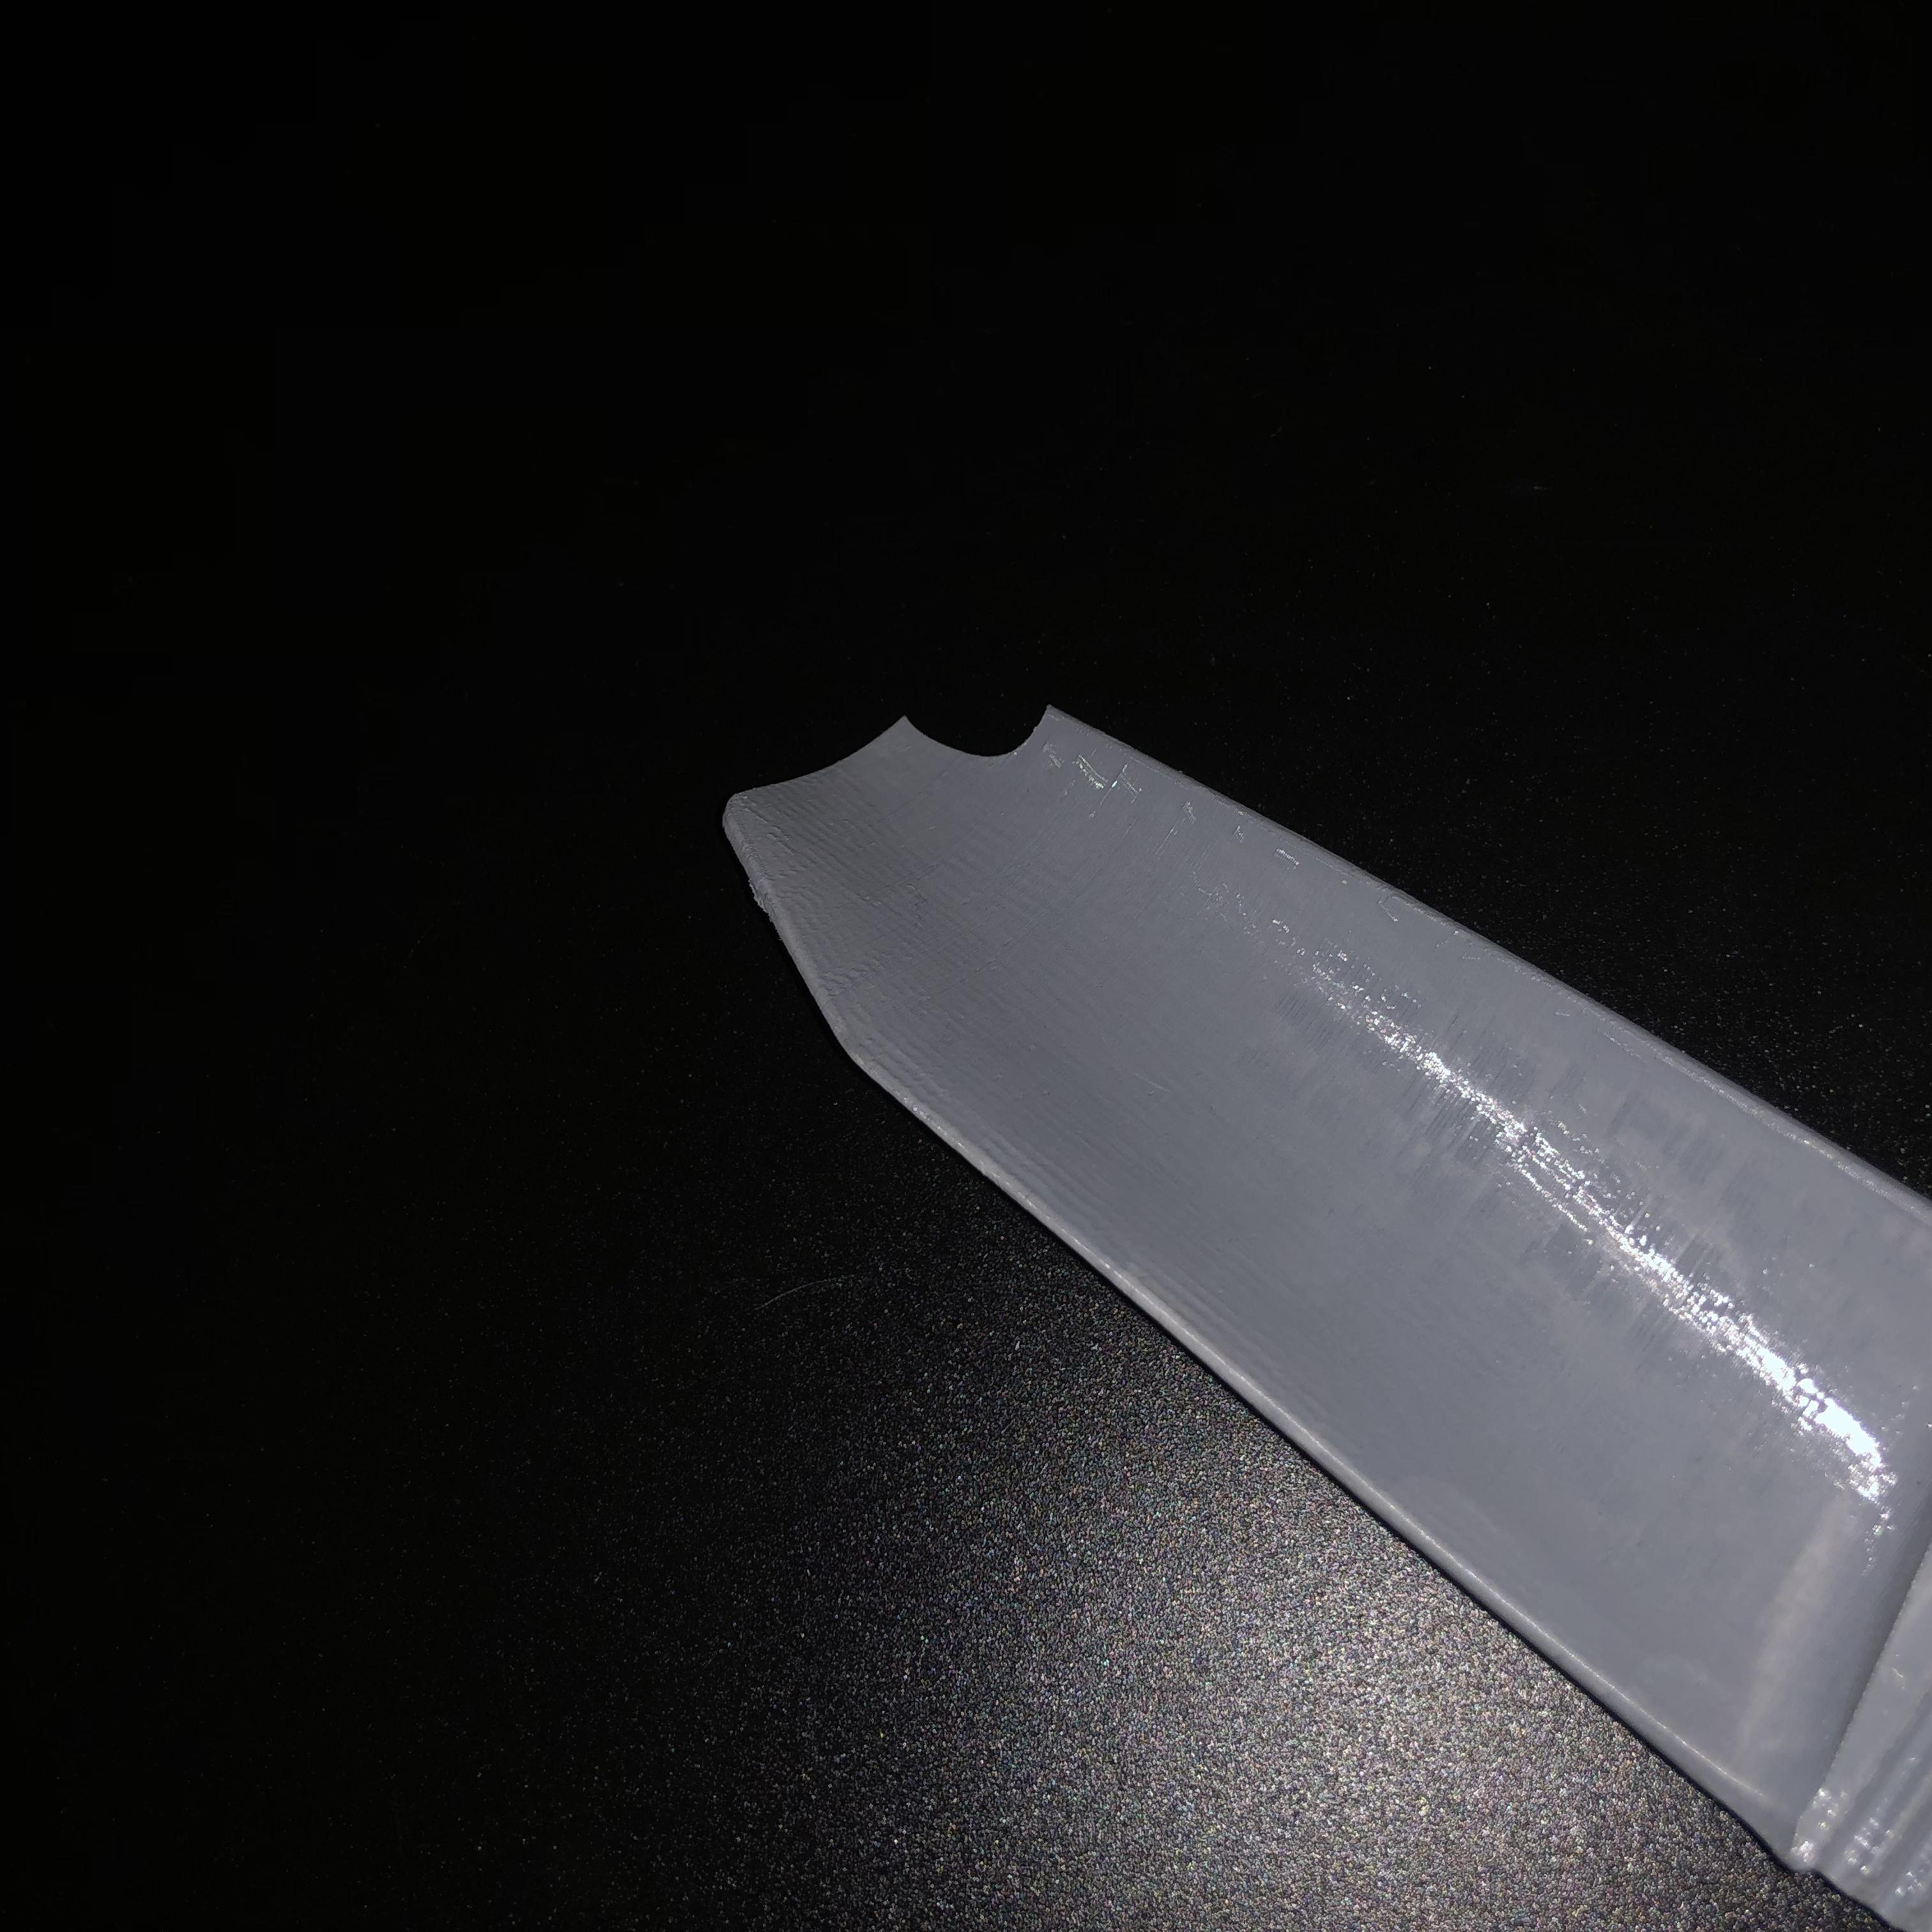fracture: (899, 688, 1081, 773)
